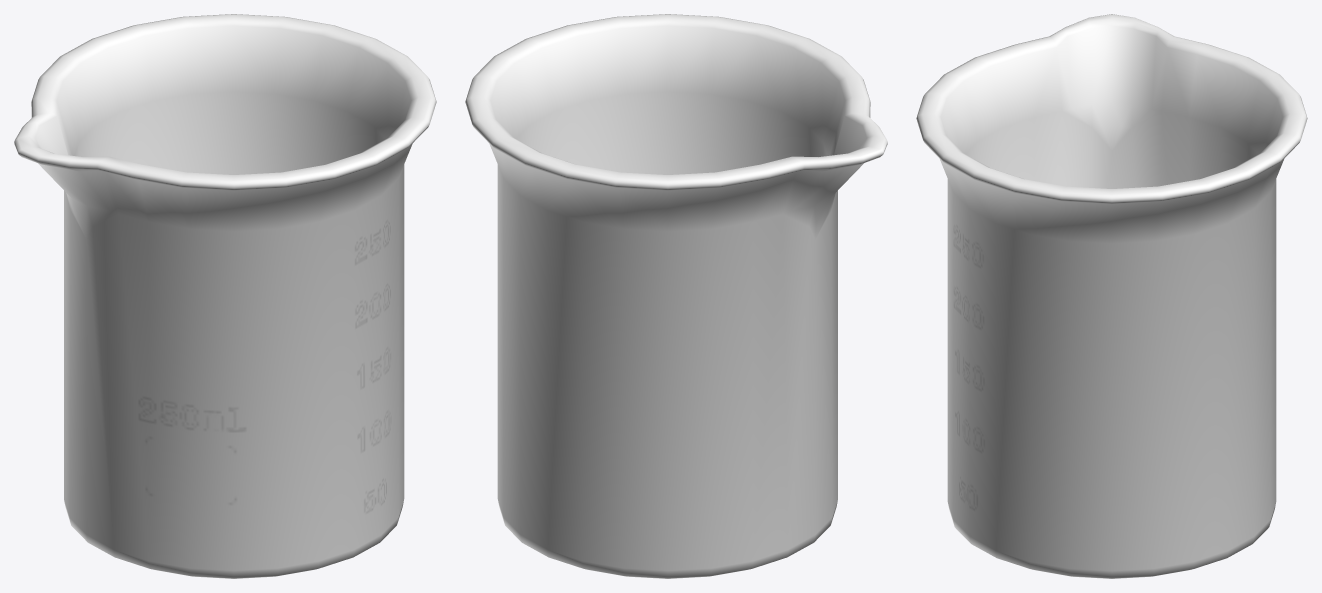
File: Electrode_Storage_Beaker.FBX
The picture shows the model from 3 angles, left to right: view 1: azimuth 30°, elevation 25°; view 2: azimuth 150°, elevation 25°; view 3: azimuth 270°, elevation 25°; orthographic projection. The views are drawn at different scales.
Visible parts, largest first — view 1: 250_mL_Low_Form_Beaker; view 2: 250_mL_Low_Form_Beaker; view 3: 250_mL_Low_Form_Beaker.
Boxes of the visible parts, bbox=[...] form: 250_mL_Low_Form_Beaker: bbox=[14, 14, 436, 578]; 250_mL_Low_Form_Beaker: bbox=[465, 14, 887, 578]; 250_mL_Low_Form_Beaker: bbox=[916, 14, 1307, 578].
Size of the model in its own units: 9.29 by 9.41 by 8.34.
